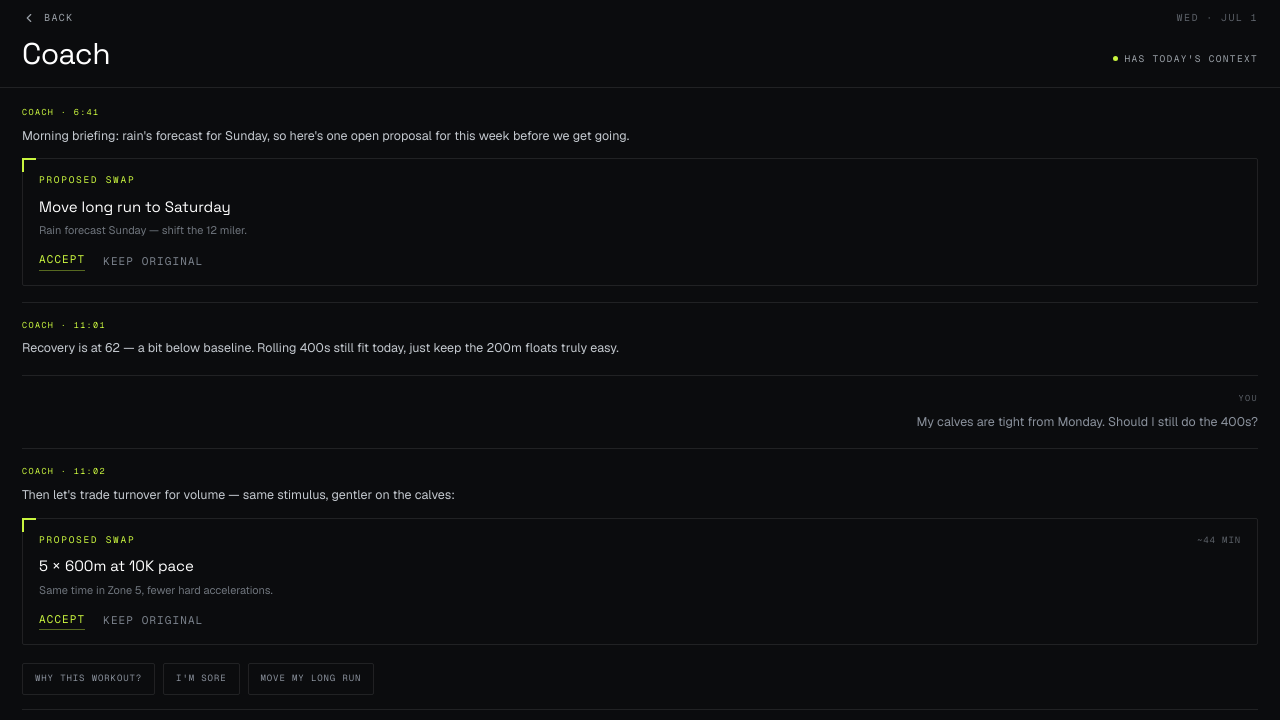
Scenario: ACCEPT on the weekly briefing proposal swaps the moved session and removes only its box
The image size is (1280, 720).
Click the button "ACCEPT" below "Move long run to Saturday": (62, 261) 39,251 -> 85,271
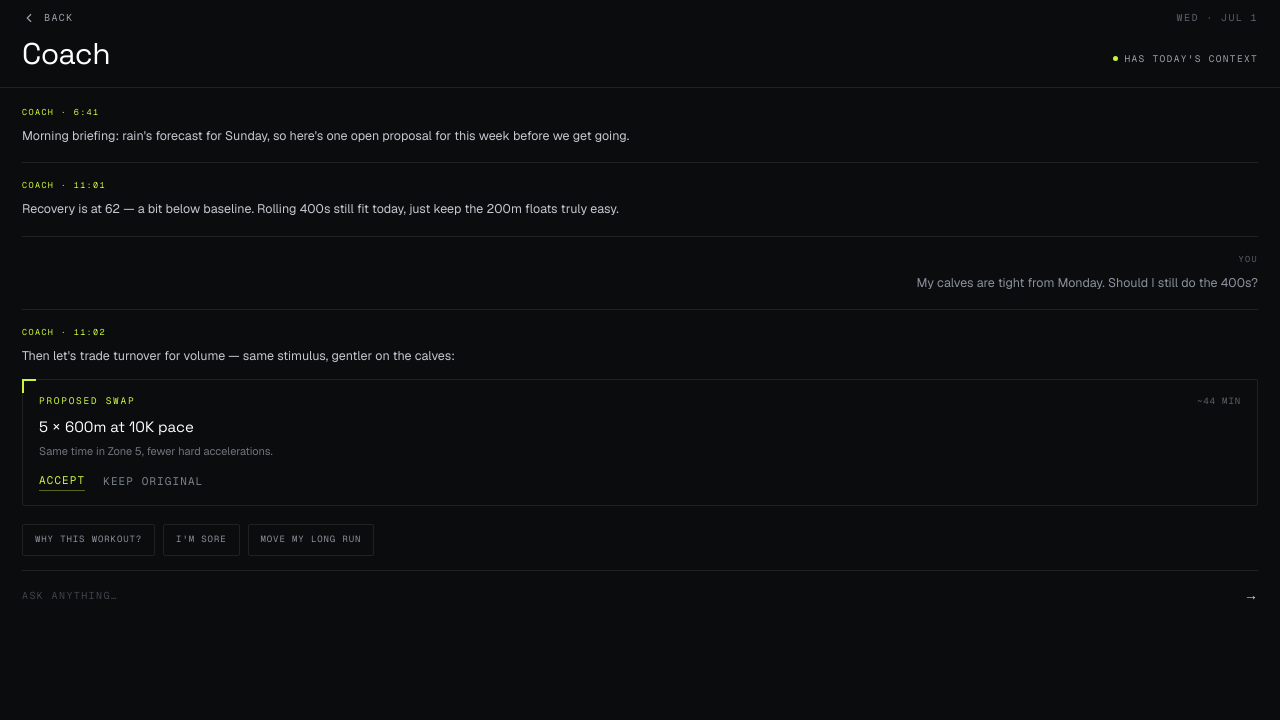
Expected: the text "5 × 600m at 10K pace" is shown, 39,417 -> 194,436
Result: the text "PROPOSED SWAP" is shown once at 39,394 -> 135,408
